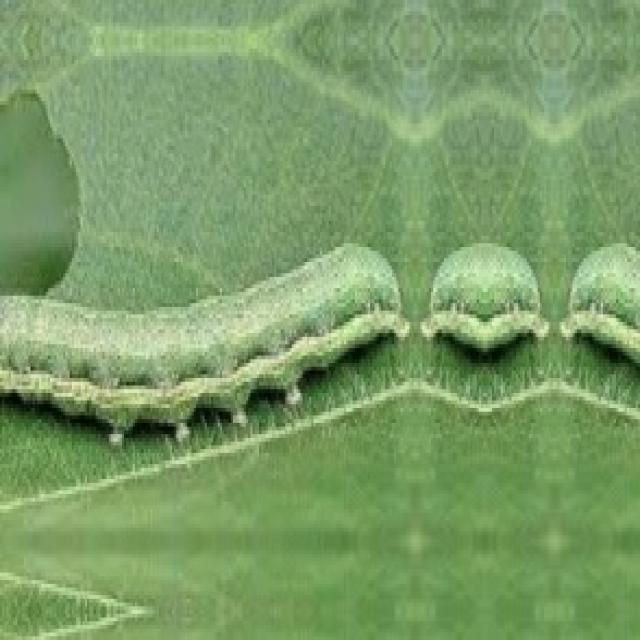armyworm: (0, 235, 409, 445), (418, 236, 549, 356), (557, 236, 638, 382)
